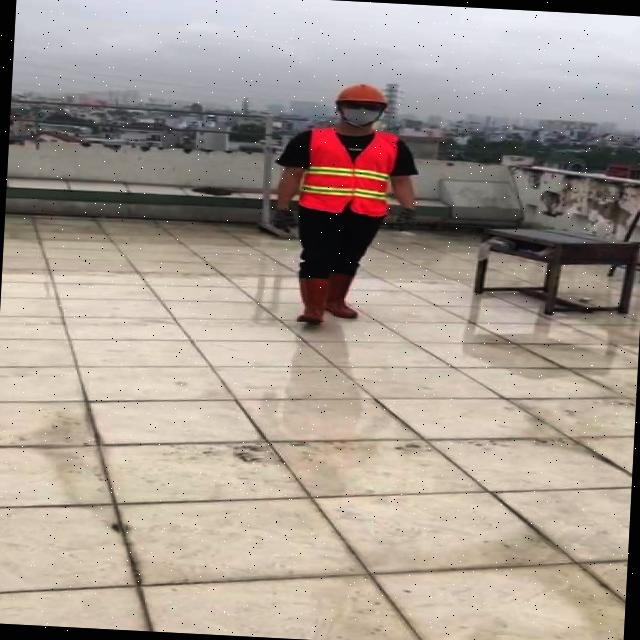boots: (329, 276, 359, 320), (300, 277, 328, 324)
